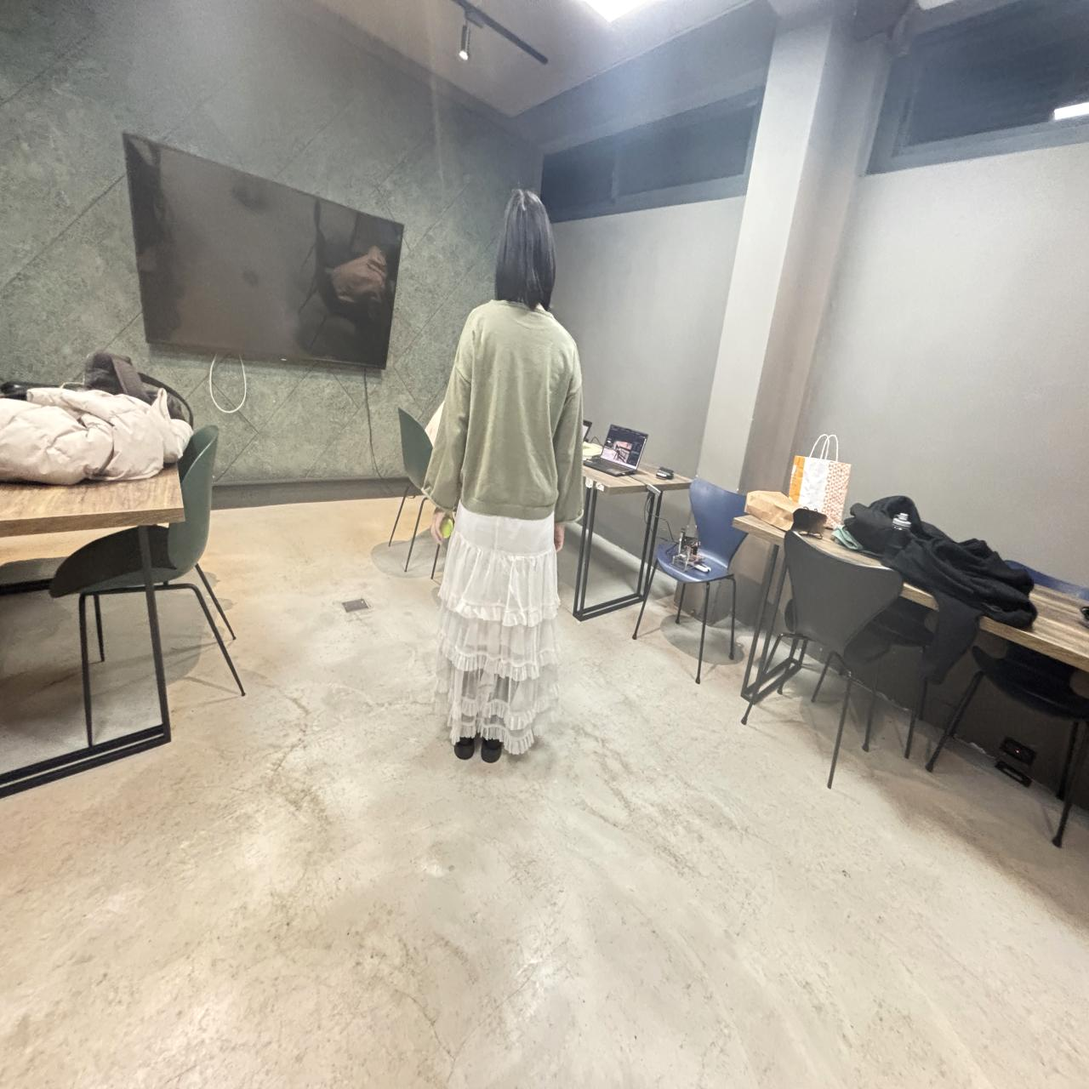person: (425, 191, 583, 761)
tennisball: (441, 516, 453, 538)
